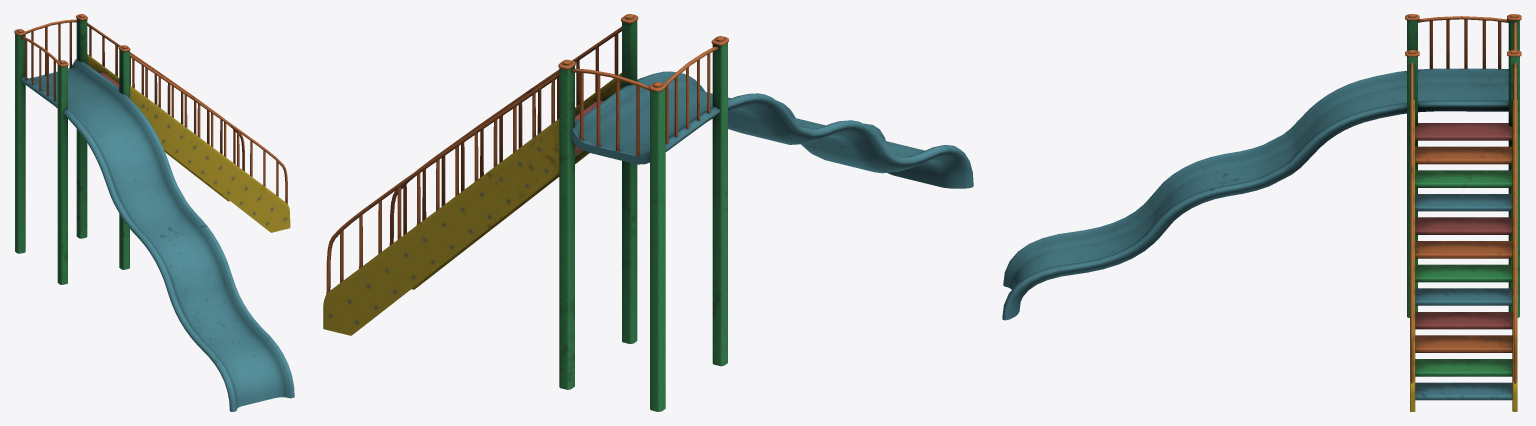
File: Slide 1.fbx
3 views of the same model, side by side, from view 1: azimuth 30°, elevation 25°; view 2: azimuth 150°, elevation 25°; view 3: azimuth 270°, elevation 25° (orthographic). The views are drawn at different scales.
Visible parts, largest first — view 1: Slide_1; view 2: Slide_1; view 3: Slide_1.
Boxes of the visible parts, <box> form: Slide_1: <box>14,14,294,411</box>; Slide_1: <box>323,14,973,411</box>; Slide_1: <box>1002,14,1521,411</box>.
Bounding box in the file's own units: 258 × 241 × 420.
1 material, 1 textured.
